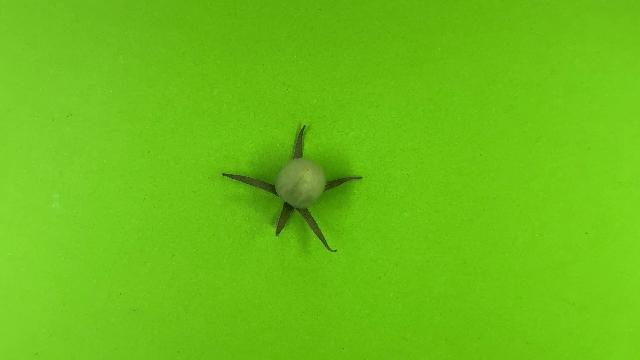Fruit Maturation: (273, 157, 328, 210)
